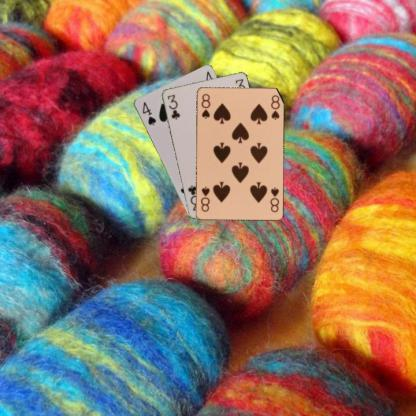3c: (165, 92, 181, 121)
4s: (139, 100, 157, 126)
8s: (268, 184, 280, 214), (199, 90, 211, 119)
